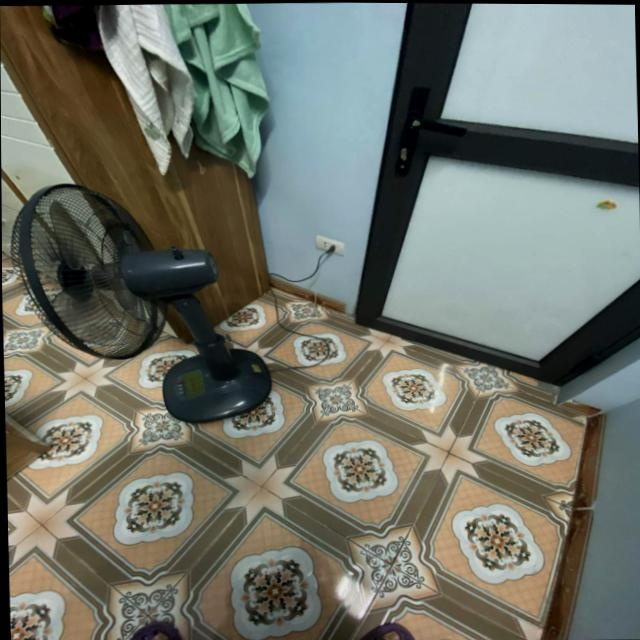outlet: (314, 234, 344, 257)
